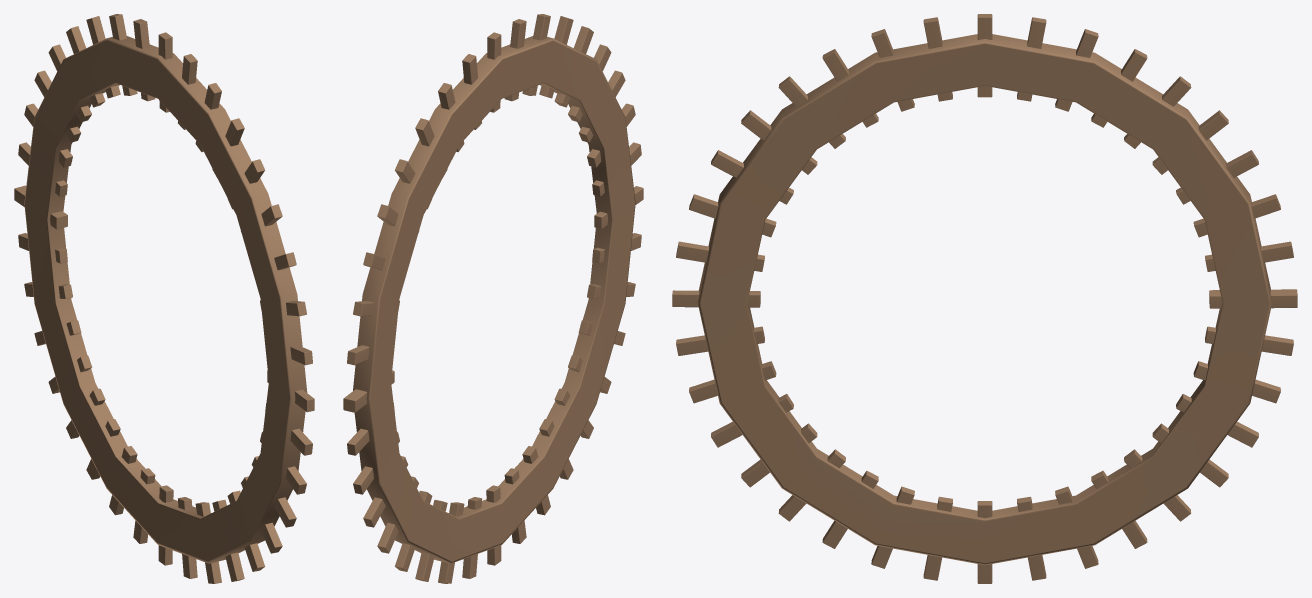
The model's file is Wheel_partsup.fbx.
3 views of the same model, side by side, from view 1: azimuth 30°, elevation 25°; view 2: azimuth 150°, elevation 25°; view 3: azimuth 270°, elevation 25° (orthographic). The views are drawn at different scales.
Visible parts, largest first — view 1: polySurface42; view 2: polySurface42; view 3: polySurface42.
Boxes of the visible parts, x1,y1,x2,y2 form: polySurface42: [14, 14, 314, 583]; polySurface42: [343, 14, 643, 583]; polySurface42: [672, 14, 1297, 583].
Size of the model in its own units: 0.0872 by 2.55 by 2.55.
